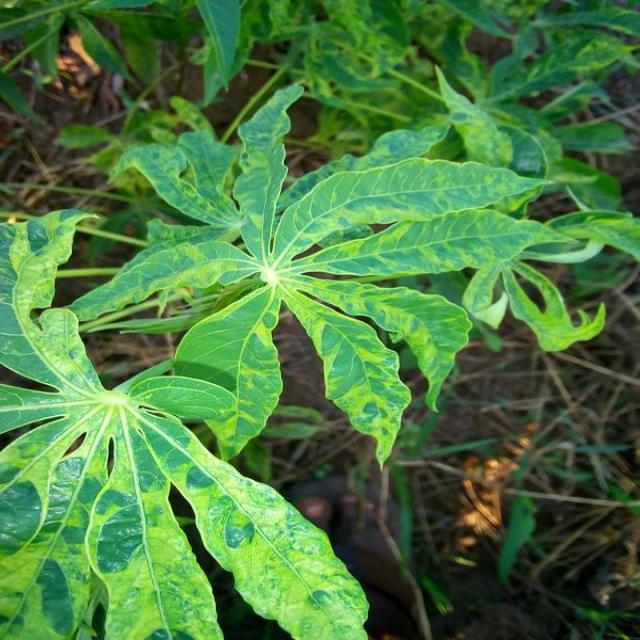cassava leaf: (64, 80, 608, 470), (2, 206, 372, 638)
